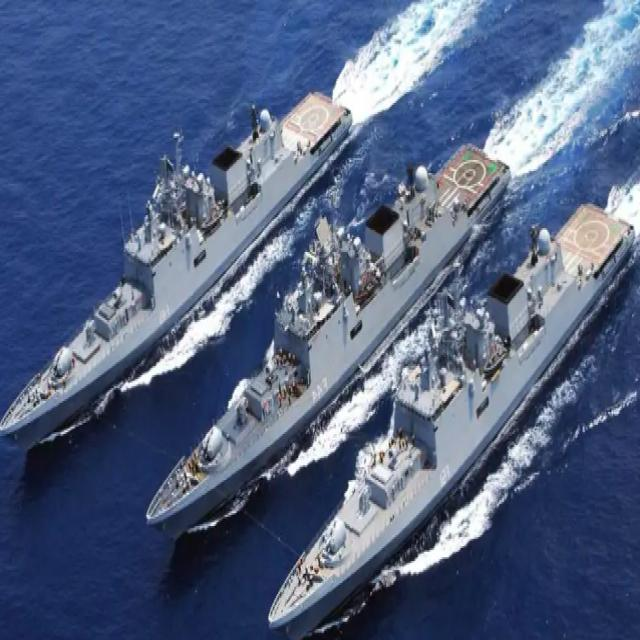navalvessels: (270, 178, 633, 640), (146, 136, 511, 547), (0, 70, 353, 447)
